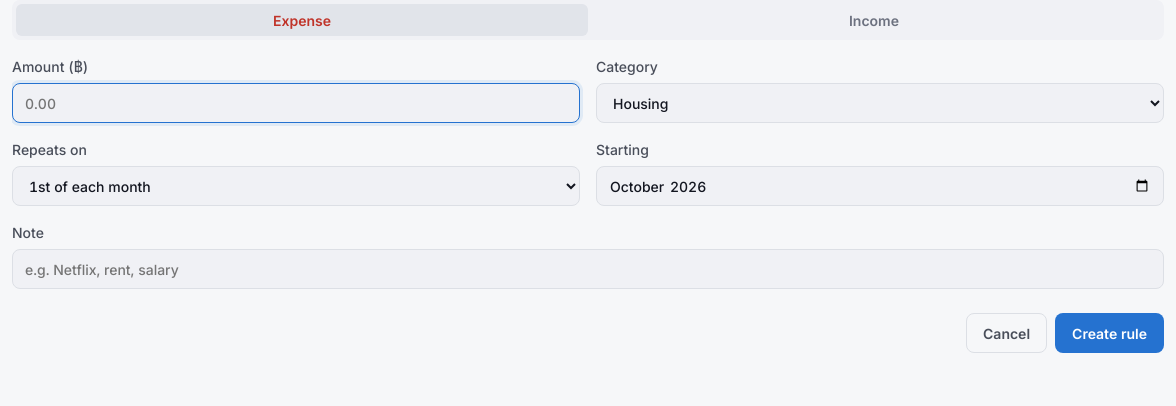
Test: RecurringForm › explains month-end clamping for days after the 28th
This screenshot has width=1176, height=406.
Expected: the text "last day of the month" is not shown
Select "31st of each month" in the dropdown labelled "Repeats on" at point(296, 186), box x1=12 y1=166 x2=580 y2=206
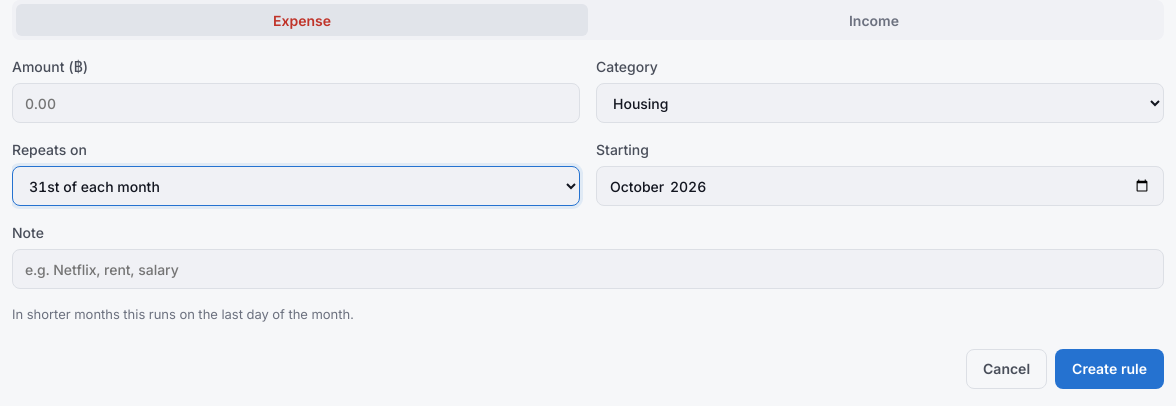
Result: the text "In shorter months this runs on the last day of the month." is shown at x1=12 y1=306 x2=354 y2=322
